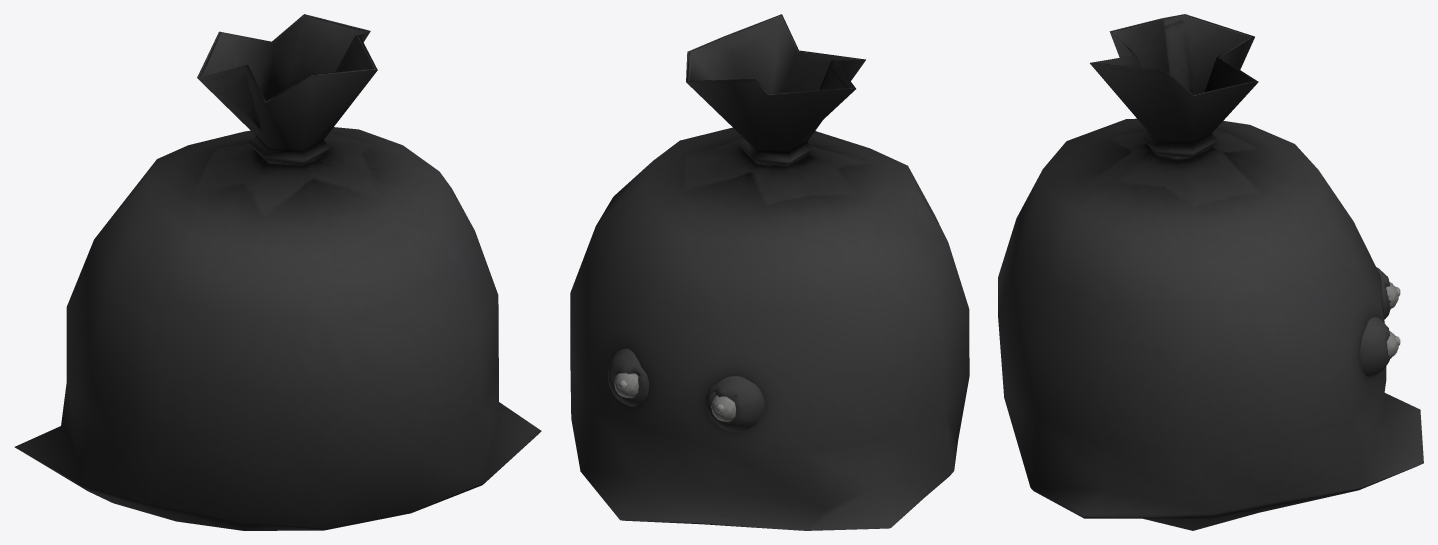
File: 019e41a8-deb6-729c-a020-288f608cc94e.glb
3 renders of one model, left to right at view 1: azimuth 30°, elevation 25°; view 2: azimuth 150°, elevation 25°; view 3: azimuth 270°, elevation 25°, orthographic. The views are drawn at different scales.
Parts seen in each view (by area): view 1: tripo_node_0806127f-7100-4053-a9d6-bf0c83f63510; view 2: tripo_node_0806127f-7100-4053-a9d6-bf0c83f63510; view 3: tripo_node_0806127f-7100-4053-a9d6-bf0c83f63510.
Boxes of the visible parts, <box> form: tripo_node_0806127f-7100-4053-a9d6-bf0c83f63510: <box>14,14,541,530</box>; tripo_node_0806127f-7100-4053-a9d6-bf0c83f63510: <box>570,14,969,530</box>; tripo_node_0806127f-7100-4053-a9d6-bf0c83f63510: <box>998,14,1423,530</box>.
Bounding box in the file's own units: 0.9824 × 0.998 × 0.9473.
1 material, 1 textured.
